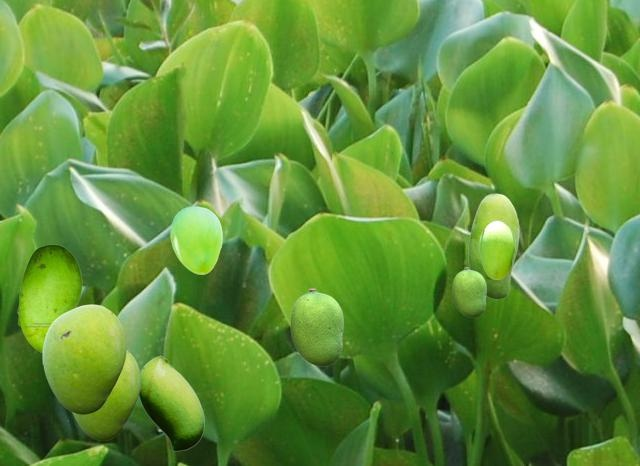green_mango: (42, 304, 125, 413), (17, 244, 81, 353), (139, 355, 203, 450), (72, 349, 139, 439), (468, 193, 518, 298), (290, 288, 342, 365), (170, 206, 221, 273), (479, 220, 514, 278), (452, 267, 485, 316)
